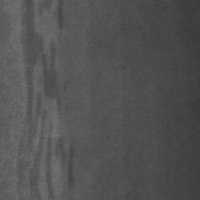inclusion: (19, 1, 76, 198)
